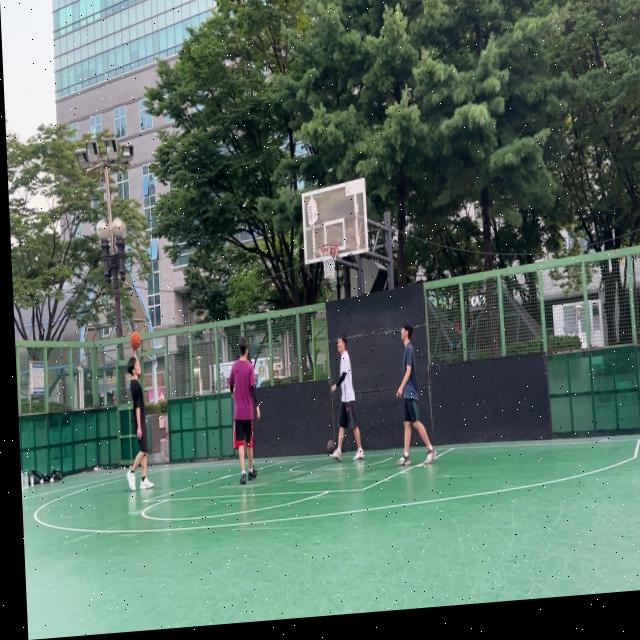basketball: (130, 331, 141, 349), (327, 439, 336, 455)
hoop: (319, 243, 340, 280)
